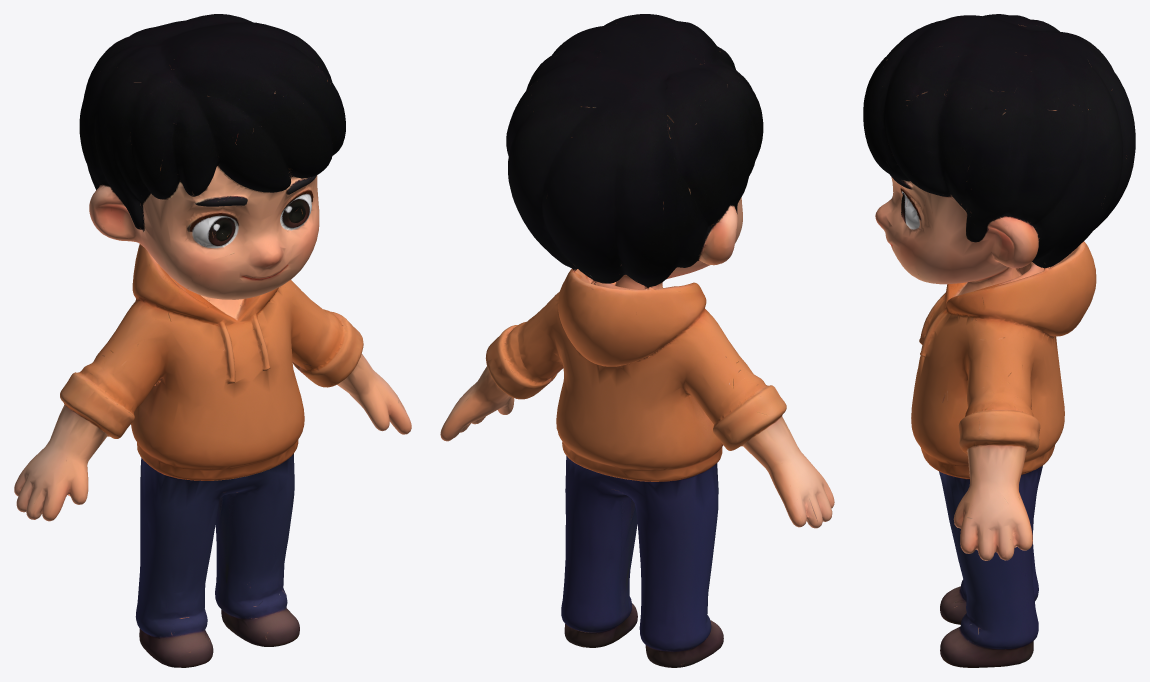
The model's file is twin_male.glb.
The picture shows the model from 3 angles, left to right: view 1: azimuth 30°, elevation 25°; view 2: azimuth 150°, elevation 25°; view 3: azimuth 270°, elevation 25°; orthographic projection.
Visible parts, largest first — view 1: Mesh_0; view 2: Mesh_0; view 3: Mesh_0.
Part boxes in pixels (box(x1,y1,x2,y2)): Mesh_0: box(14, 14, 411, 667); Mesh_0: box(440, 14, 834, 667); Mesh_0: box(863, 14, 1135, 667).
Size of the model in its own units: 1.24 by 1.91 by 0.7746.
Materials: 1 (1 with a texture image).
